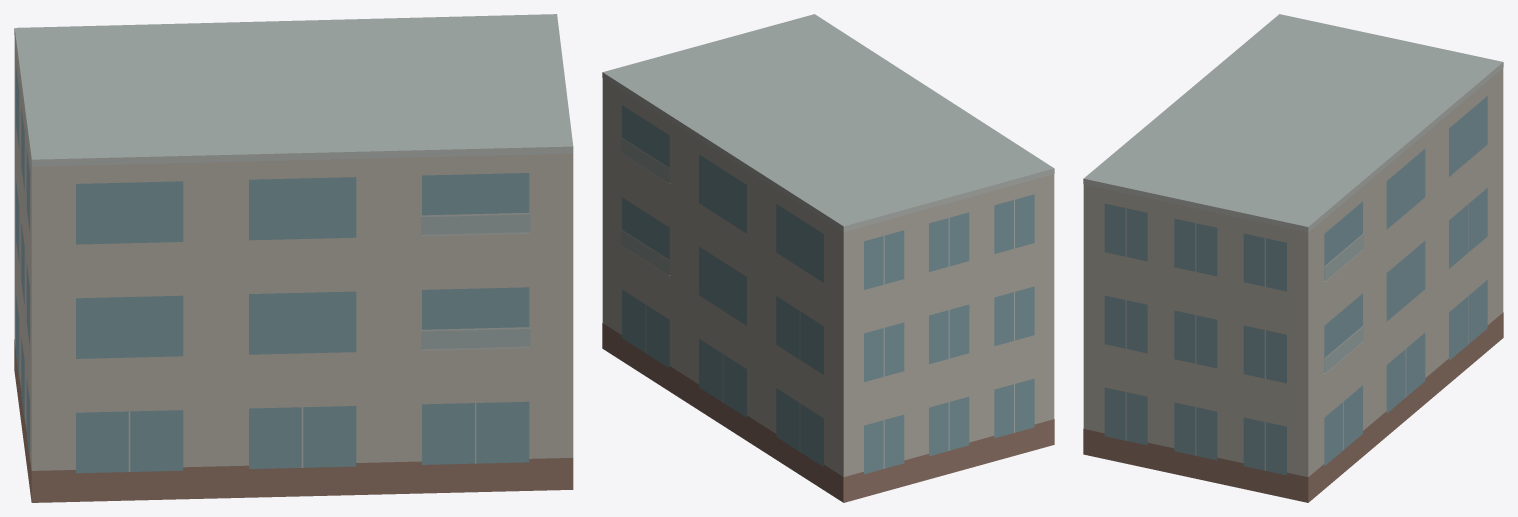
Rendered from survey-upis-32888408.glb.
3 renders of one model, left to right at view 1: azimuth 30°, elevation 25°; view 2: azimuth 150°, elevation 25°; view 3: azimuth 270°, elevation 25°, orthographic. The views are drawn at different scales.
Parts seen in each view (by area): view 1: survey-upis-32888408.tmp; view 2: survey-upis-32888408.tmp; view 3: survey-upis-32888408.tmp.
Boxes of the visible parts, left/top/right/bottom form: survey-upis-32888408.tmp: left=14, top=14, right=573, bottom=502; survey-upis-32888408.tmp: left=602, top=14, right=1054, bottom=502; survey-upis-32888408.tmp: left=1083, top=14, right=1503, bottom=502.
Size of the model in its own units: 19.64 by 11.85 by 16.36.
